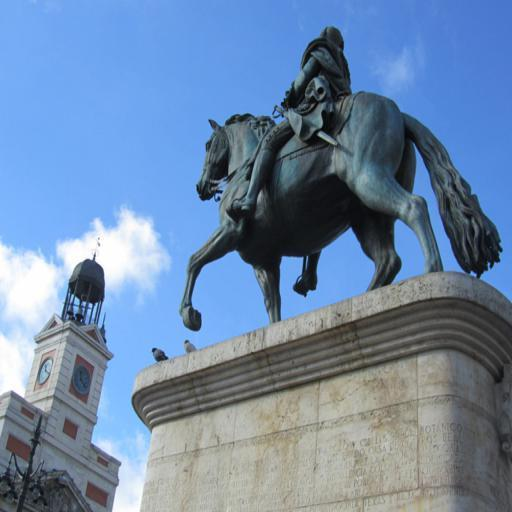horse: (176, 84, 506, 332)
